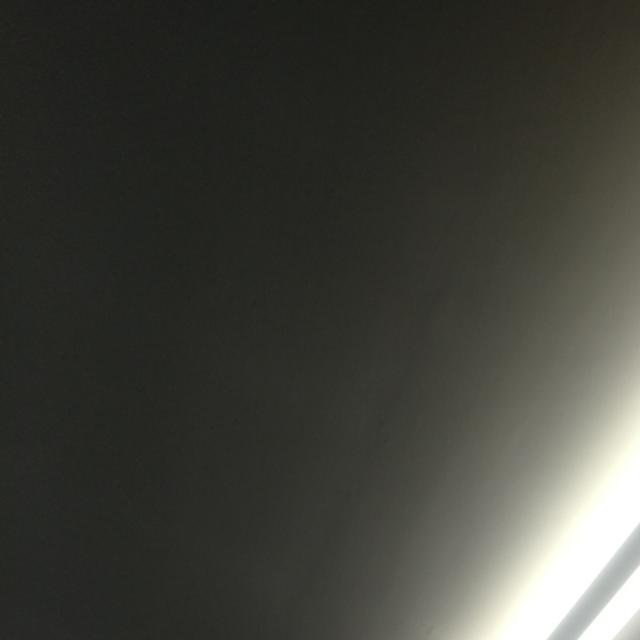fluorescent tube: (417, 99, 640, 640)
